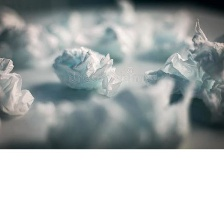tissue: (136, 13, 224, 120), (47, 40, 126, 102), (0, 53, 38, 121)
